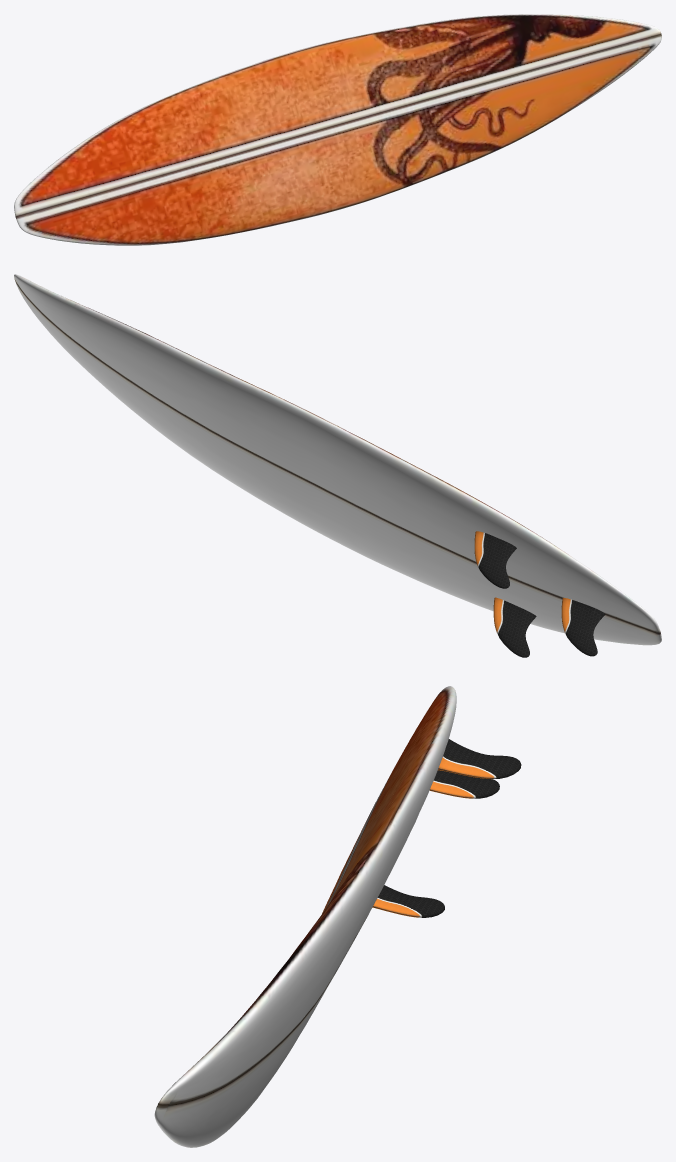
File: surf.glb
The picture shows the model from 3 angles, top to bottom: view 1: azimuth 30°, elevation 25°; view 2: azimuth 150°, elevation 25°; view 3: azimuth 270°, elevation 25°; orthographic projection. The views are drawn at different scales.
Parts seen in each view (by area): view 1: Prancha; view 2: Prancha, Cube, Cube001, Cube002; view 3: Prancha, Cube002, Cube001, Cube.
Part boxes in pixels (x1=…): Prancha: x1=14, y1=14, x2=661, y2=245; Prancha: x1=14, y1=274, x2=661, y2=645; Cube: x1=561, y1=597, x2=605, y2=656; Cube001: x1=493, y1=597, x2=536, y2=657; Cube002: x1=474, y1=531, x2=516, y2=588; Prancha: x1=154, y1=686, x2=456, y2=1147; Cube002: x1=438, y1=739, x2=521, y2=779; Cube001: x1=372, y1=885, x2=444, y2=917; Cube: x1=429, y1=770, x2=499, y2=798.
Size of the model in its own units: 4.69 by 1.2 by 1.29.
2 materials, 2 textured.
